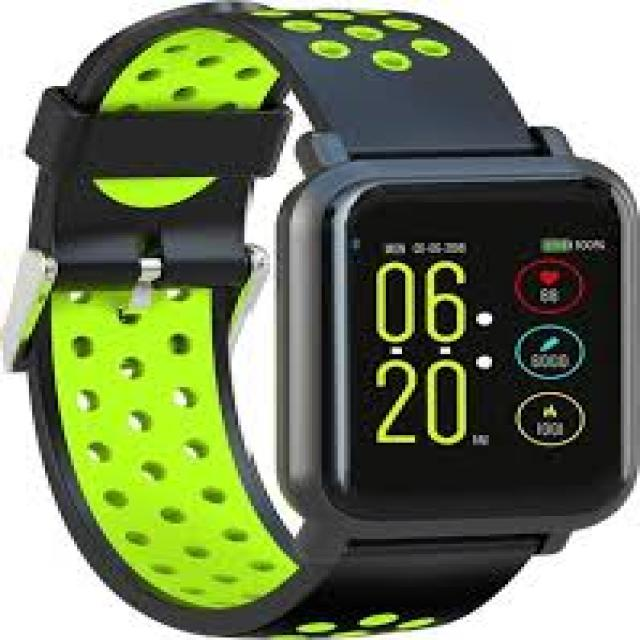objects: (6, 3, 637, 637)
